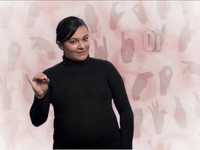oi: (24, 70, 50, 97)
